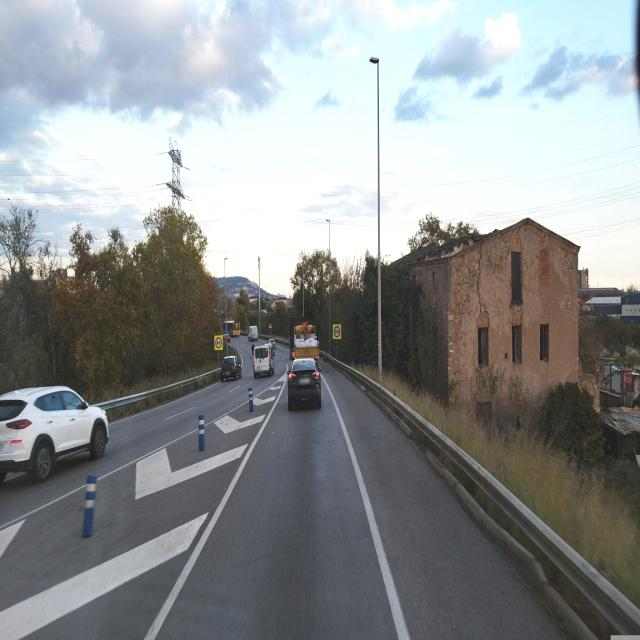car: (0, 384, 110, 486), (286, 356, 322, 412), (252, 340, 276, 378), (220, 353, 242, 382)
